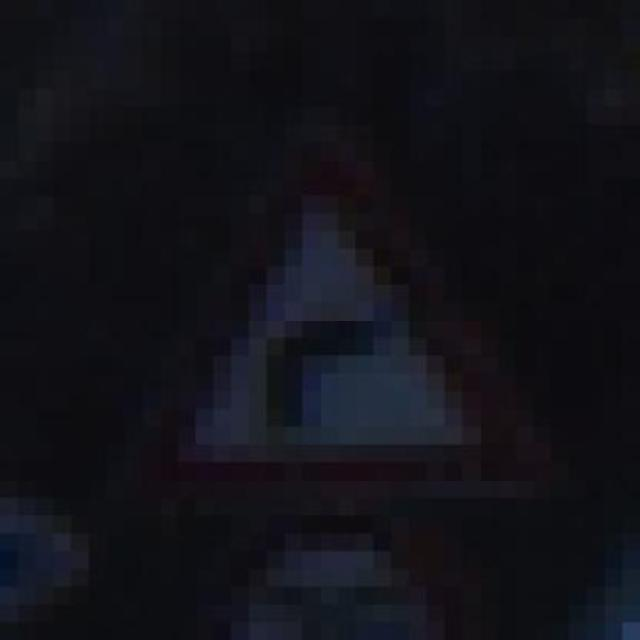Dangerous Rright Curve Ahead: (106, 124, 534, 516)
